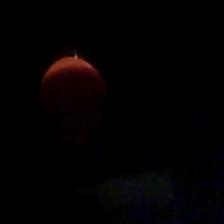fertile: (36, 54, 110, 156)
